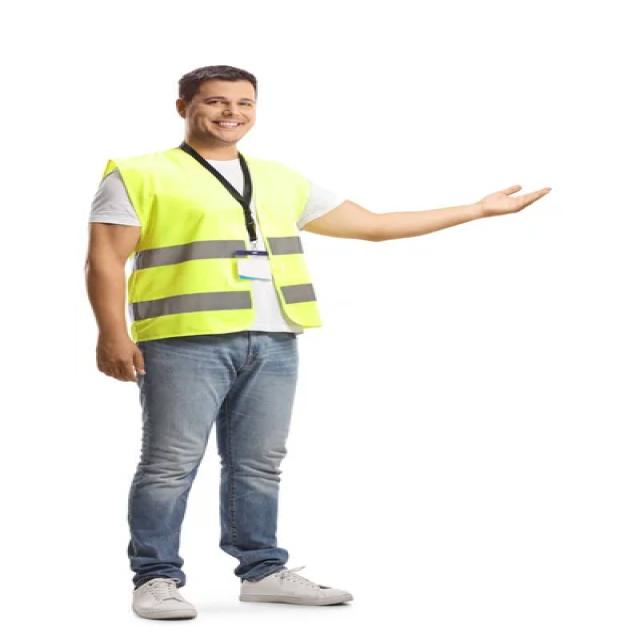vest: (104, 142, 325, 345)
